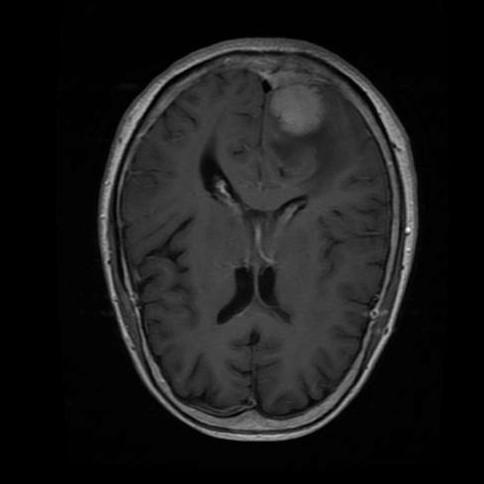Tumour-Meningioma: (238, 56, 345, 155)
